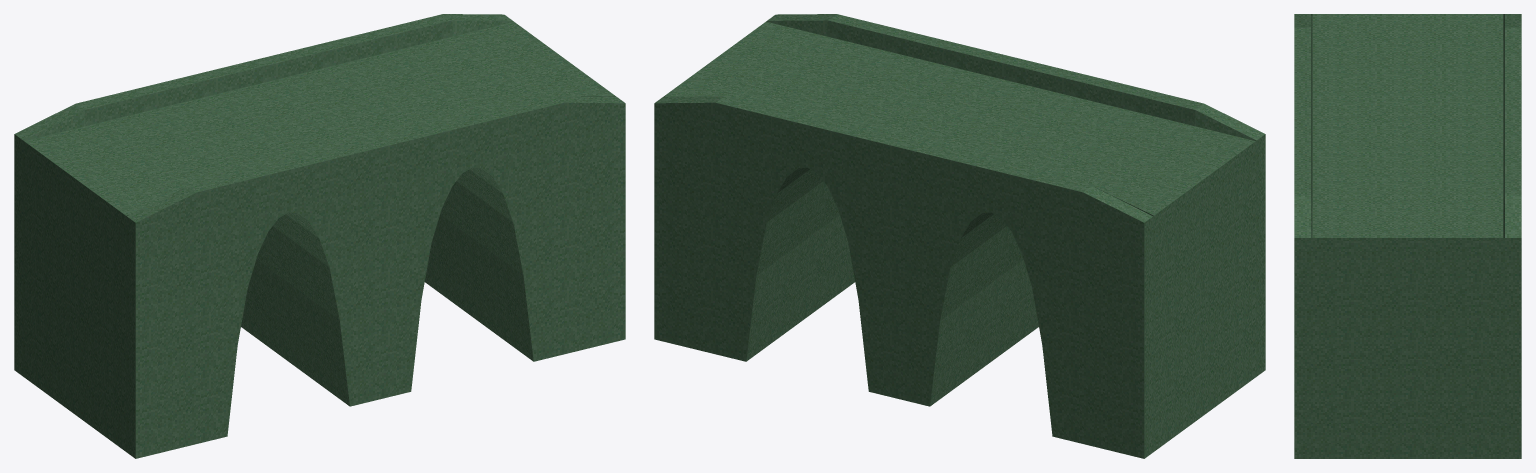
File: Bridge.fbx
The picture shows the model from 3 angles, left to right: view 1: azimuth 30°, elevation 25°; view 2: azimuth 150°, elevation 25°; view 3: azimuth 270°, elevation 25°; orthographic projection. The views are drawn at different scales.
Parts seen in each view (by area): view 1: Bridge; view 2: Bridge; view 3: Bridge.
Part boxes in pixels (left/top/right/bottom): Bridge: left=14, top=14, right=625, bottom=458; Bridge: left=654, top=14, right=1265, bottom=458; Bridge: left=1294, top=14, right=1521, bottom=458.
Bounding box in the file's own units: 14 × 6 × 6.87.
